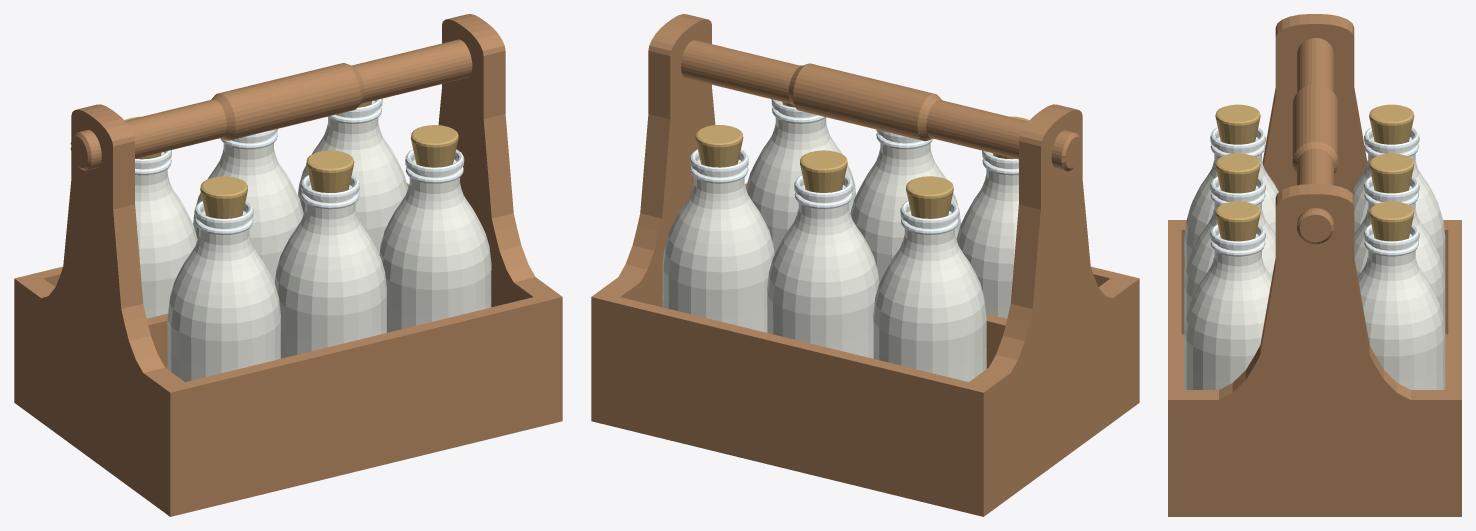
The model's file is MilkBottleCrate.fbx.
3 renders of one model, left to right at view 1: azimuth 30°, elevation 25°; view 2: azimuth 150°, elevation 25°; view 3: azimuth 270°, elevation 25°, orthographic. The views are drawn at different scales.
Visible parts, largest first — view 1: Cylinder.005; view 2: Cylinder.005; view 3: Cylinder.005.
Boxes of the visible parts, x1,y1,x2,y2 form: Cylinder.005: (14,14,562,516); Cylinder.005: (591,14,1139,516); Cylinder.005: (1168,14,1461,516).
Bounding box in the file's own units: 532 × 422 × 348.
